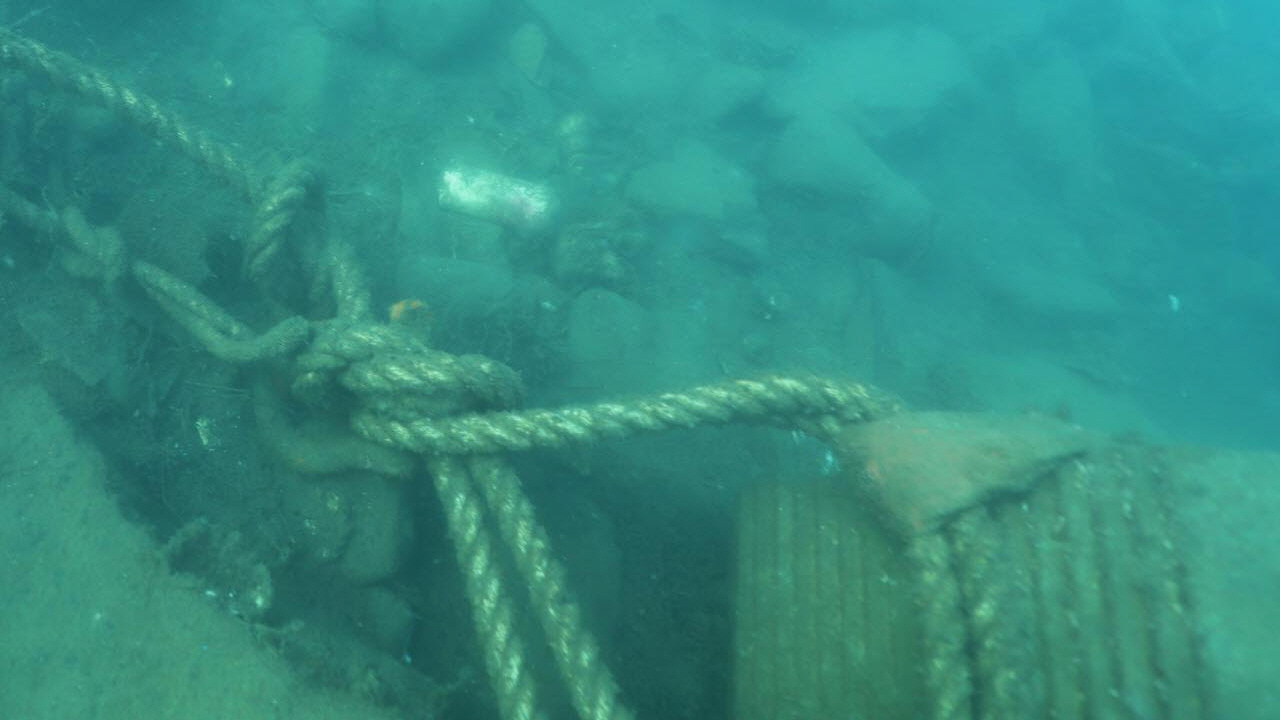bundle of ropes: (0, 26, 1050, 718)
